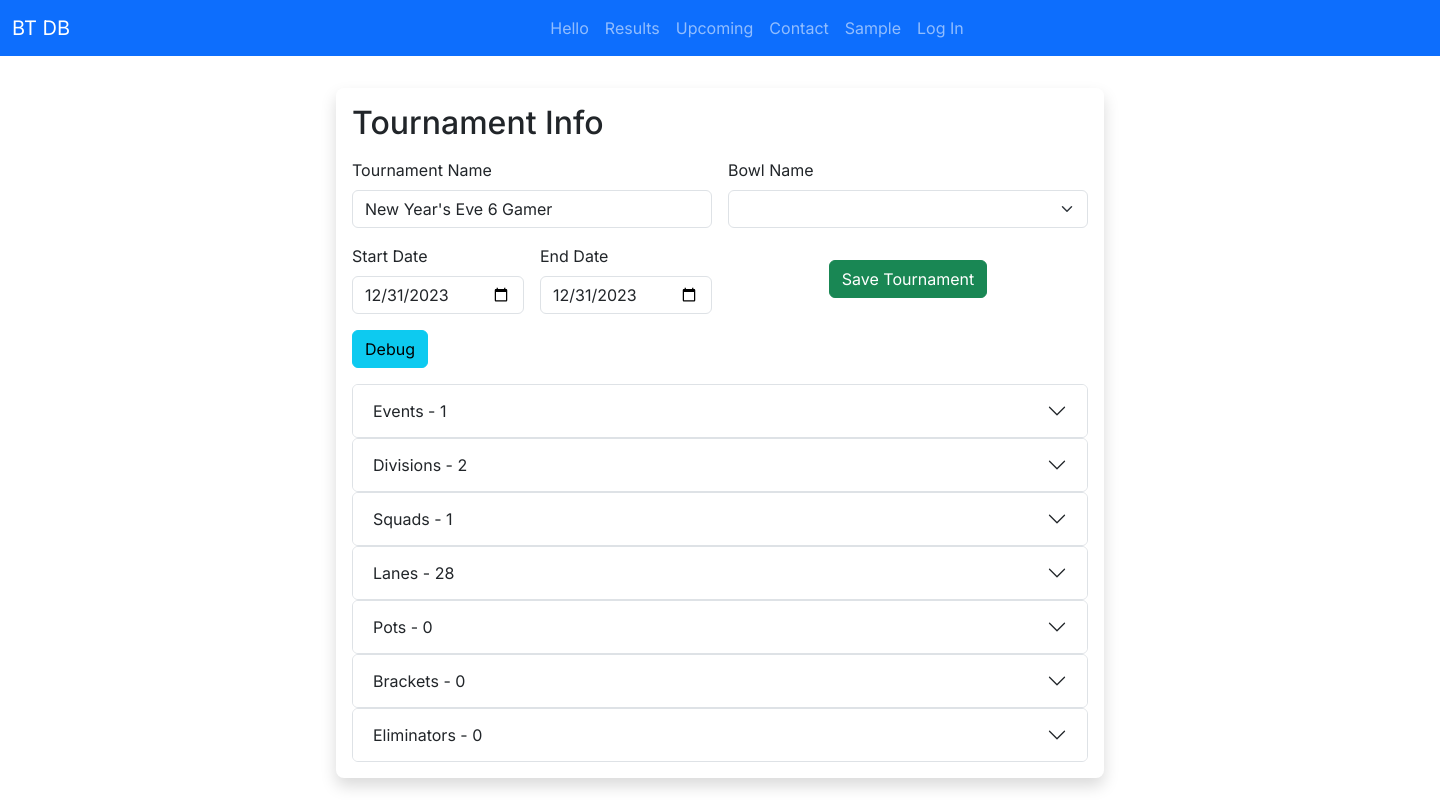
it: TmntDataPage - Divs Component › render multiple divs › render multiple divs
This screenshot has width=1440, height=800.
Step 1. Click the button "Divisions - 2" → click(415, 465), box top-left (353, 439), bottom-right (1087, 491)
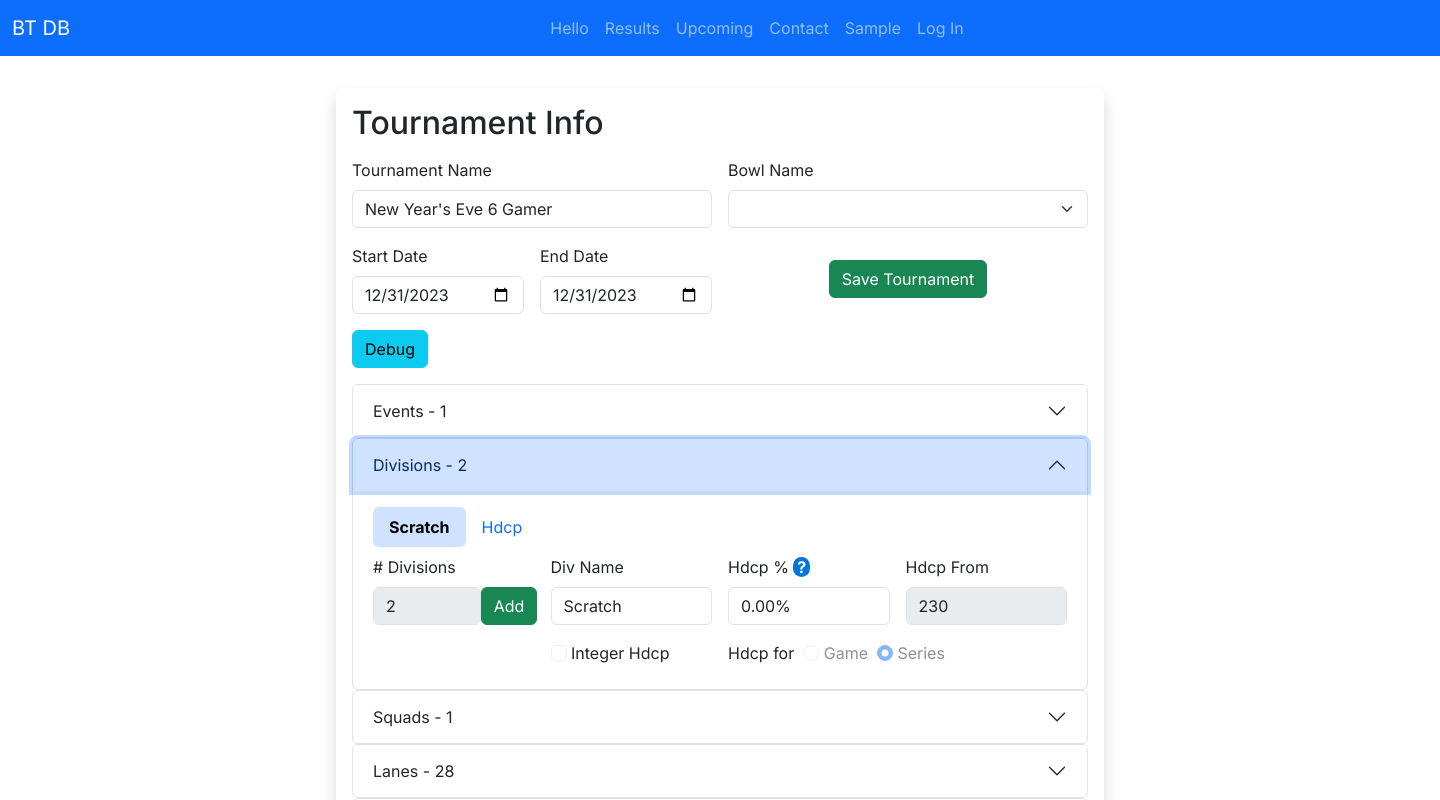
Result: the tab "Scratch" is shown at top-left (373, 507), bottom-right (466, 547)
Result: the tab "Hdcp" is shown at top-left (466, 507), bottom-right (538, 547)
